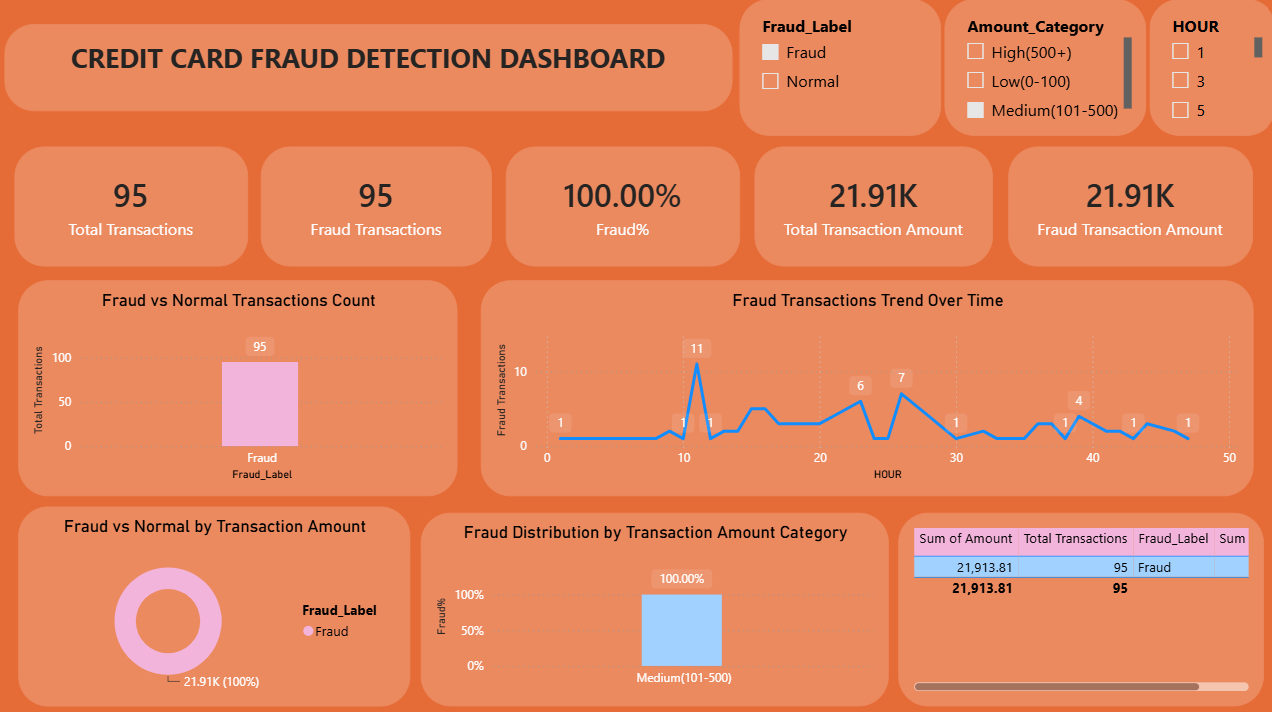

This screenshot's page, from the dashboard's own definition file:
{"tool":"powerbi","page":{"name":"Page 1","canvas":[1280,720],"ordinal":0},"visuals":[{"type":"cardVisual","fields":{"Data":["creditcard.Total Transactions"]},"box":[17.5,147.4,233.5,119.9],"z":0},{"type":"cardVisual","fields":{"Data":["creditcard.Fraud Transactions"]},"box":[263.5,147.4,231,119.9],"z":1000},{"type":"cardVisual","fields":{"Data":["creditcard.Fraud%"]},"box":[508.3,147.4,234.8,119.9],"z":2000},{"type":"cardVisual","fields":{"Data":["creditcard.Total Transaction Amount"]},"box":[758,147.4,238.5,119.9],"z":3000},{"type":"cardVisual","fields":{"Data":["creditcard.Fraud Transaction Amount"]},"box":[1011.5,147.4,244.8,119.9],"z":4000},{"type":"clusteredColumnChart","title":"Fraud vs Normal Transactions Count","fields":{"Category":["creditcard.Fraud_Label"],"Y":["creditcard.Total Transactions"]},"box":[21.2,281,439.6,216],"z":5000},{"type":"donutChart","title":"Fraud vs Normal by Transaction Amount","fields":{"Category":["creditcard.Fraud_Label"],"Y":["Sum(creditcard.Amount)"]},"box":[21.2,507,392.1,199.8],"z":6000},{"type":"lineChart","title":"Fraud Transactions Trend Over Time","fields":{"Category":["creditcard.HOUR"],"Y":["creditcard.Fraud Transactions"]},"box":[483.3,281,773,216],"z":7000},{"type":"columnChart","title":"Fraud Distribution by Transaction Amount Category","fields":{"Category":["creditcard.Amount_Category"],"Y":["creditcard.Fraud%"]},"box":[423.3,513.2,468.3,193.6],"z":8000},{"type":"tableEx","fields":{"Values":["Sum(creditcard.Amount)","creditcard.Total Transactions","creditcard.Fraud_Label","Sum(creditcard.HOUR)"]},"box":[901.6,513.2,365.9,193.6],"z":9000},{"type":"textbox","box":[7.5,25,727.6,87.1],"z":10000},{"type":"slicer","fields":{"Values":["creditcard.Fraud_Label"]},"box":[743,0,201.7,136.5],"z":11000},{"type":"slicer","fields":{"Values":["creditcard.Amount_Category"]},"box":[947.7,0,201.7,136.5],"z":12000},{"type":"slicer","fields":{"Values":["creditcard.HOUR"]},"box":[1152.4,0,127.4,136.5],"z":13000}]}

Visuals, with their boxes in screenshot pixels (x1, y1, x2, y2), scaled from the page's 1280x720 canvas onto the 1272x712 screenshot:
cardVisual - creditcard.Total Transactions: 17/146/249/264
cardVisual - creditcard.Fraud Transactions: 262/146/491/264
cardVisual - creditcard.Fraud%: 505/146/738/264
cardVisual - creditcard.Total Transaction Amount: 753/146/990/264
cardVisual - creditcard.Fraud Transaction Amount: 1005/146/1248/264
"Fraud vs Normal Transactions Count" clusteredColumnChart: 21/278/458/491
"Fraud vs Normal by Transaction Amount" donutChart: 21/501/411/699
"Fraud Transactions Trend Over Time" lineChart: 480/278/1248/491
"Fraud Distribution by Transaction Amount Category" columnChart: 421/507/886/699
tableEx - Sum(creditcard.Amount) x creditcard.Total Transactions: 896/507/1260/699
textbox: 7/25/731/111
slicer - creditcard.Fraud_Label: 738/0/939/135
slicer - creditcard.Amount_Category: 942/0/1142/135
slicer - creditcard.HOUR: 1145/0/1271/135
